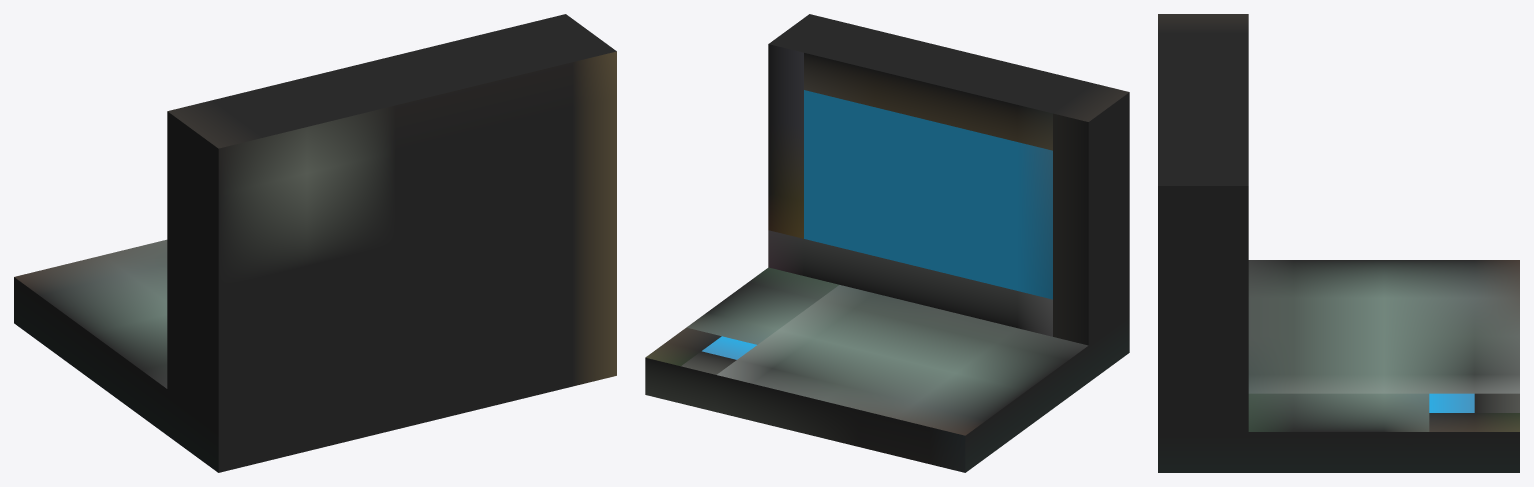
File: LaptopBlack_00.fbx
3 views of the same model, side by side, from view 1: azimuth 30°, elevation 25°; view 2: azimuth 150°, elevation 25°; view 3: azimuth 270°, elevation 25° (orthographic). The views are drawn at different scales.
Parts seen in each view (by area): view 1: LaptopBlack_00; view 2: LaptopBlack_00; view 3: LaptopBlack_00.
Boxes of the visible parts, bbox=[...] form: LaptopBlack_00: bbox=[14, 14, 616, 472]; LaptopBlack_00: bbox=[645, 14, 1129, 472]; LaptopBlack_00: bbox=[1158, 14, 1519, 472].
Bounding box in the file's own units: 45 × 40 × 35.
Materials: 2 (2 with a texture image).
